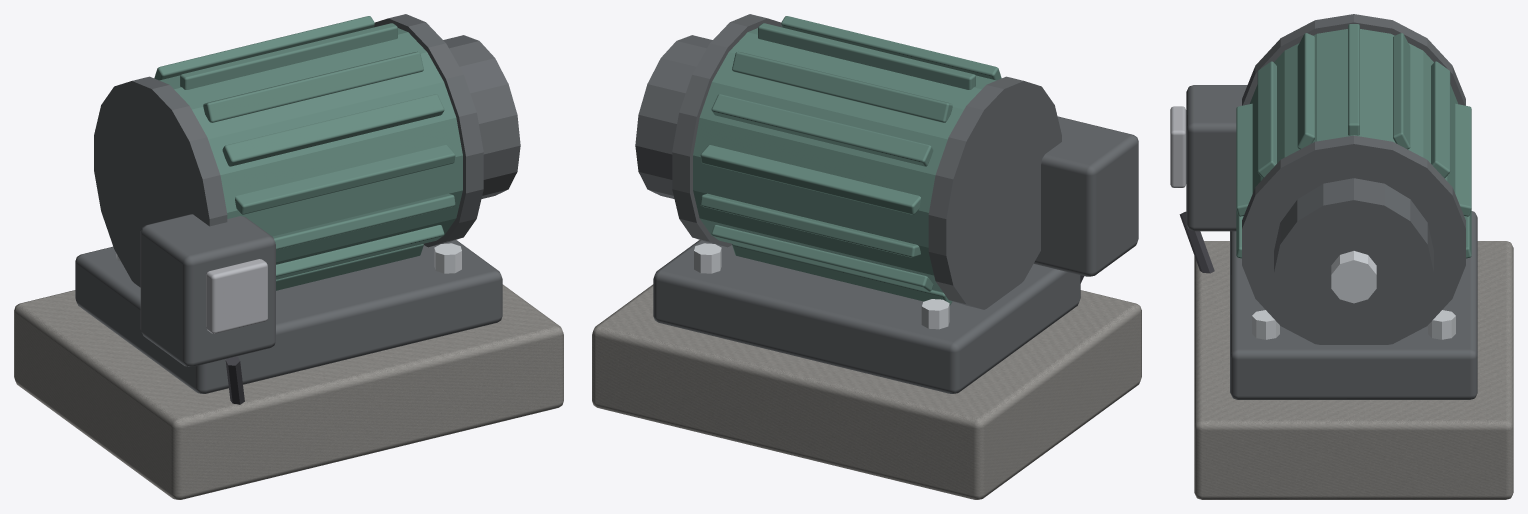
The model's file is electric_motor.glb.
3 renders of one model, left to right at view 1: azimuth 30°, elevation 25°; view 2: azimuth 150°, elevation 25°; view 3: azimuth 270°, elevation 25°, orthographic. The views are drawn at different scales.
Visible parts, largest first — view 1: electric-motor, pulley/iron; view 2: electric-motor, pulley/iron; view 3: electric-motor, pulley/iron, pulley/steel.
Part boxes in pixels (x1,y1,x2,y2): electric-motor: [14, 14, 563, 499]; pulley/iron: [443, 35, 520, 198]; electric-motor: [592, 14, 1141, 499]; pulley/iron: [635, 35, 712, 198]; electric-motor: [1170, 14, 1513, 499]; pulley/iron: [1274, 178, 1433, 344]; pulley/steel: [1331, 251, 1376, 303].
Bounding box in the file's own units: 1.14 × 0.93 × 0.86.
Materials: 6 (1 with a texture image).
